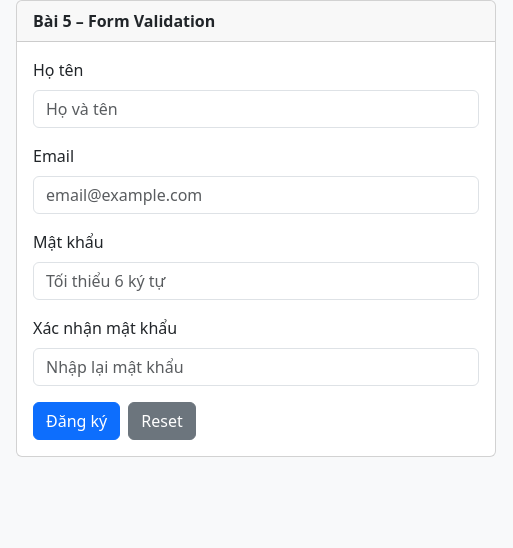
Test: Bài 5 – Form Validation › ✅ Task 3 – RESET › ẩn form-success sau reset
Note: Submit thành công trước
Type "BichTra" into the field with test id "input-name" at (256, 109), box left=33, top=90, right=479, bottom=128
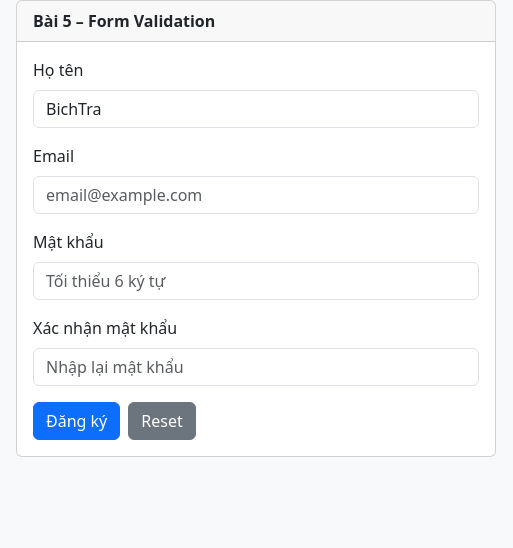
Type "b@b.com" into the field with test id "input-email" at (256, 195), box left=33, top=176, right=479, bottom=214
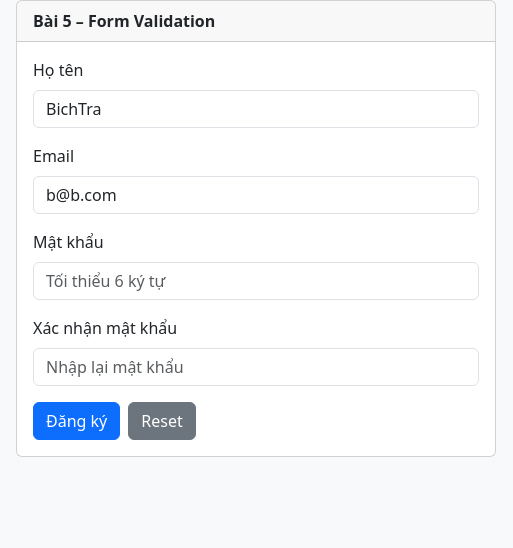
Type "abcdef" into the password field with test id "input-password" at (256, 281), box left=33, top=262, right=479, bottom=300
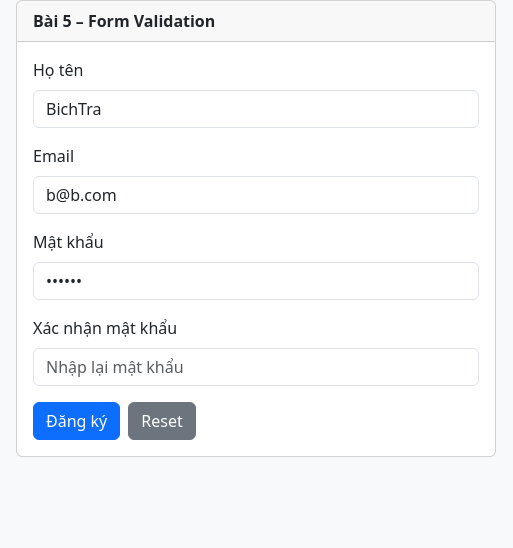
Type "abcdef" into the password field with test id "input-confirm" at (256, 367), box left=33, top=348, right=479, bottom=386
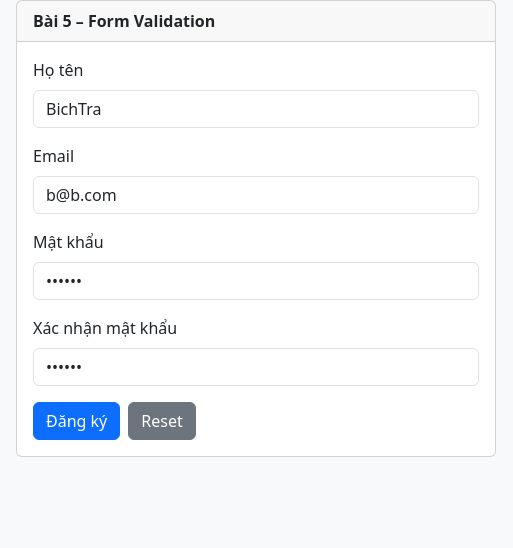
Click the button with test id "btn-submit" at (77, 421), box left=33, top=402, right=120, bottom=440
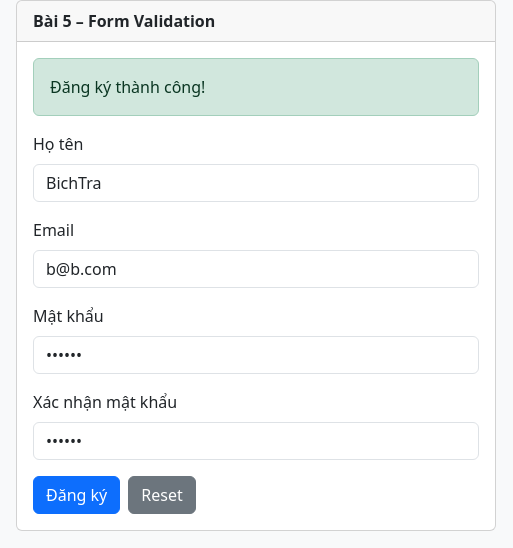
Expected: the message "Đăng ký thành công!" is shown, left=33, top=58, right=479, bottom=116
Click the button with test id "btn-reset" at (162, 495), box left=128, top=476, right=196, bottom=514
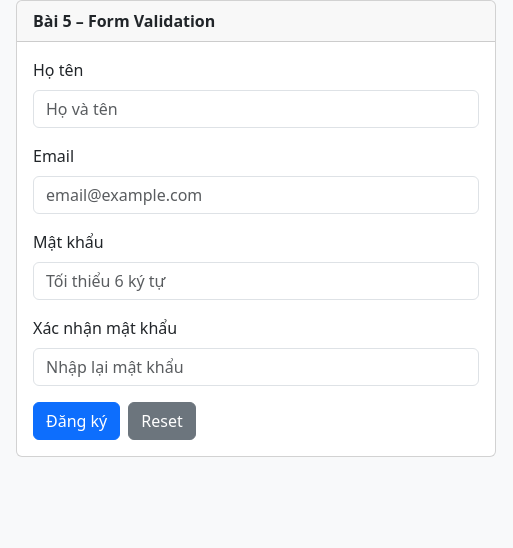
Expected: the message with test id "form-success" is gone
